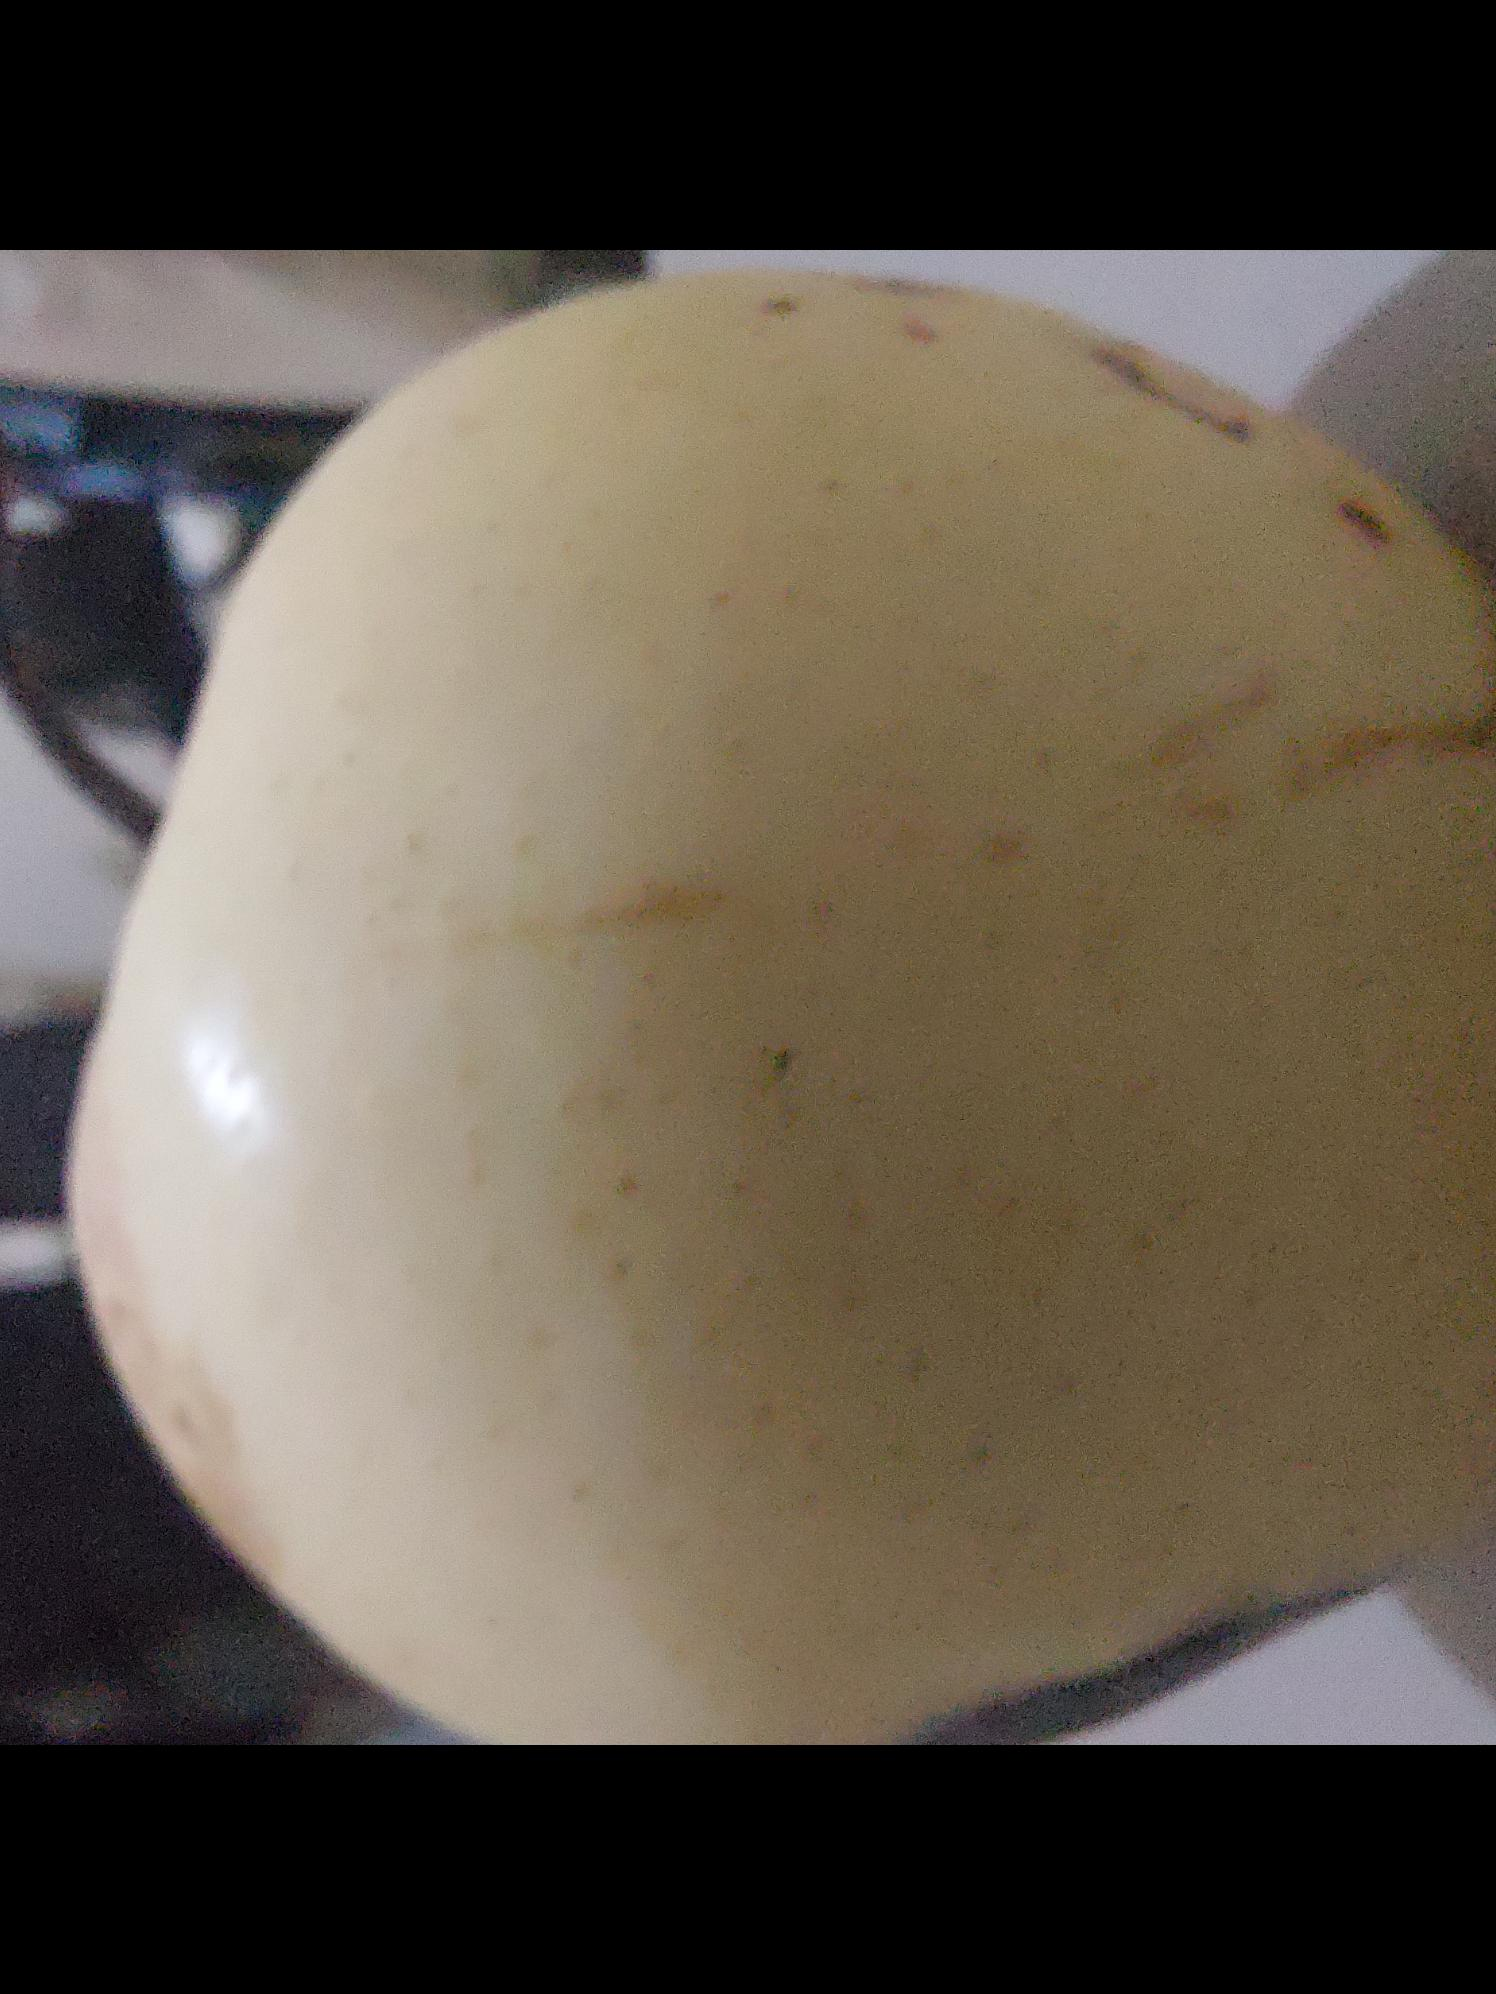Bad Pear: (80, 286, 1496, 1746)
